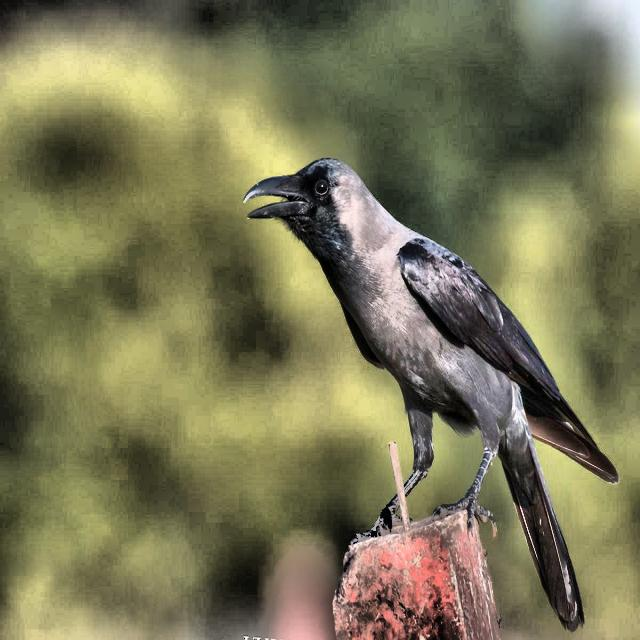crow: (233, 104, 640, 639)
